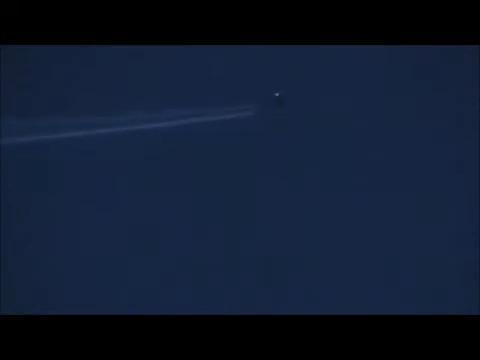Plane: (0, 82, 323, 164)
